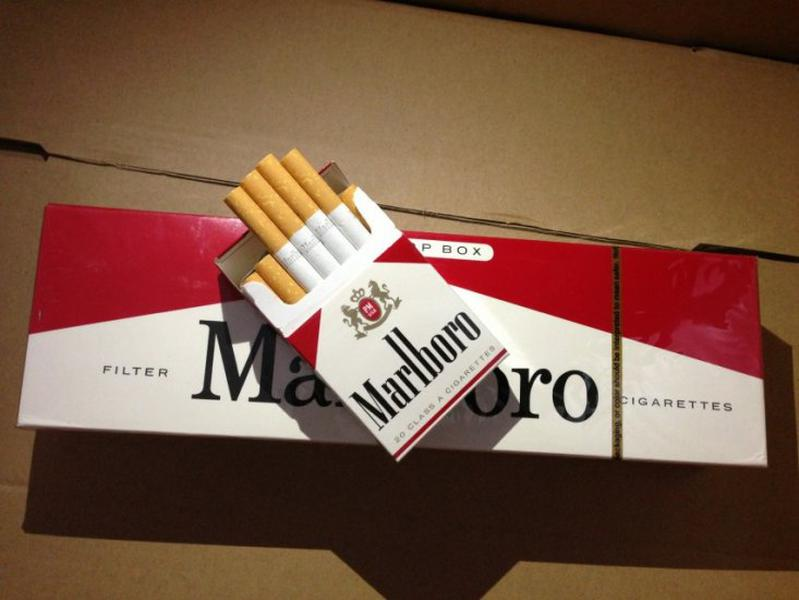marlboro_red: (280, 254, 481, 427)
